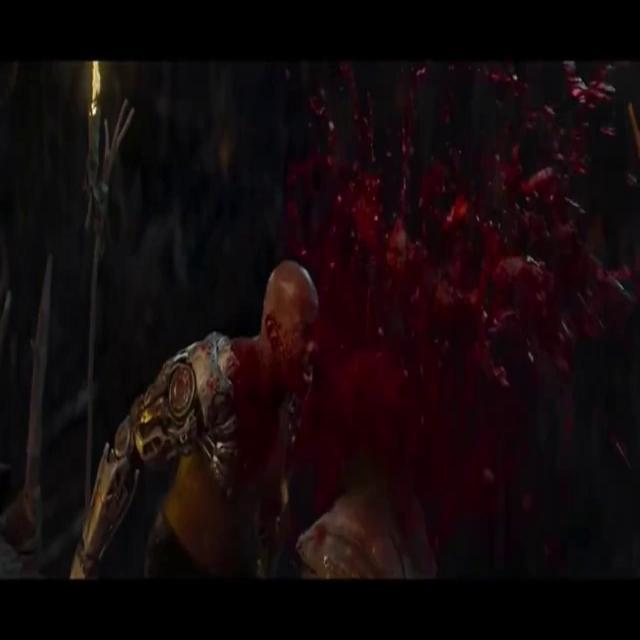flood: (256, 67, 632, 502)
